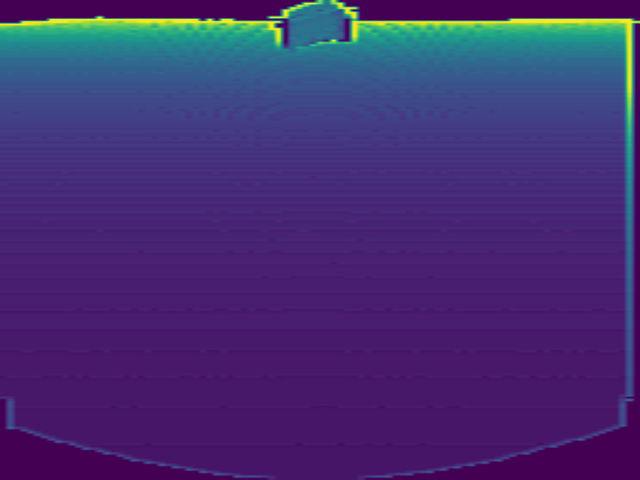car_0027: (272, 1, 359, 51)
